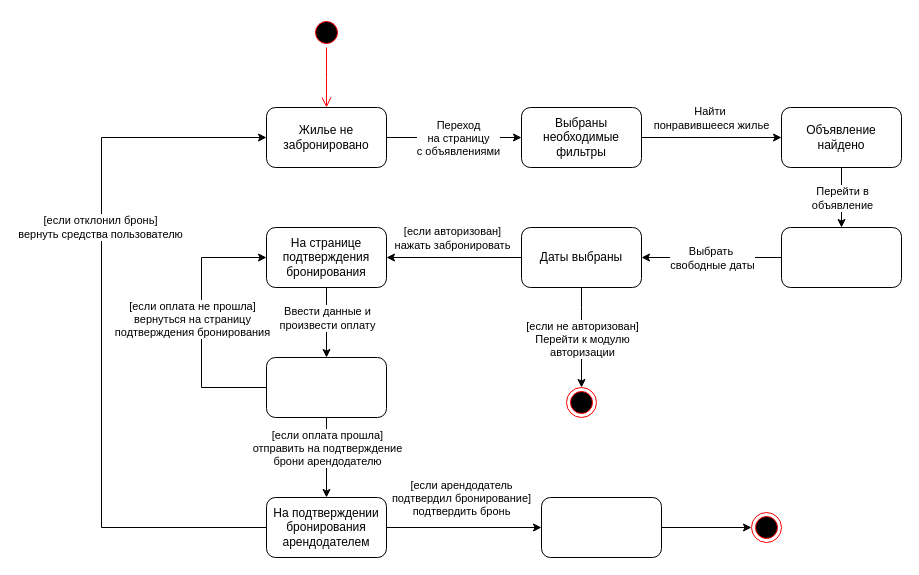
Some shapes in this 919 by 575 pixel diagram are drawn without their labels. The centre of each missing label's shape, as x and y in pixels:
"Жилье забронировано" belongs at [601,527].
"На странице объявления" belongs at [841,257].
"Проверка оплаты" belongs at [326,387].
